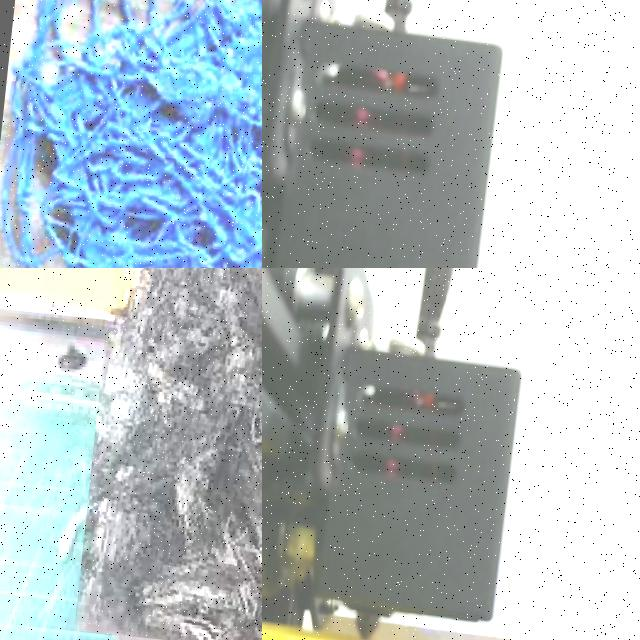spaghetti: (0, 0, 262, 268), (81, 268, 262, 640)
